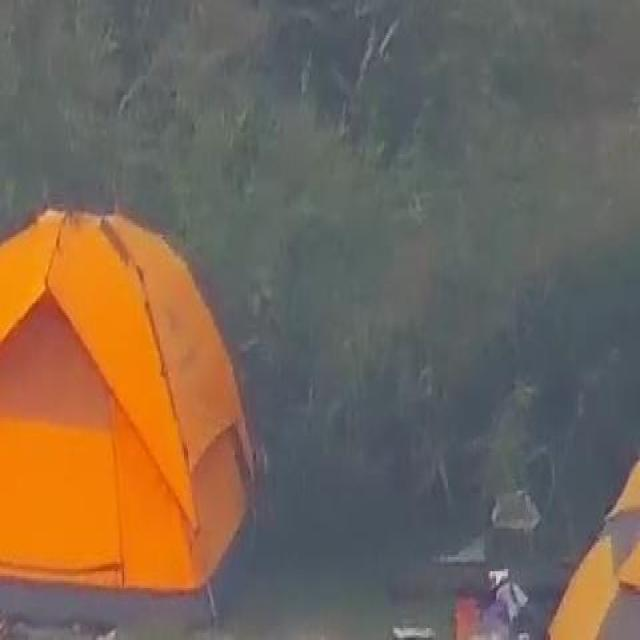other: (3, 207, 269, 607), (553, 422, 637, 630)
